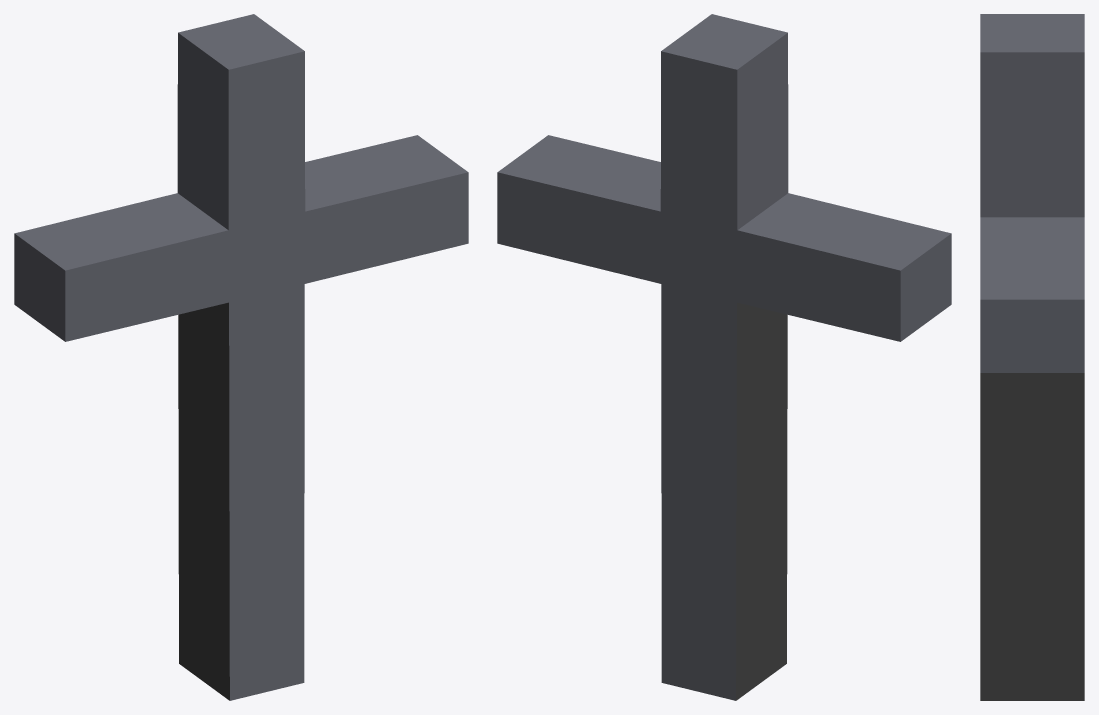
The model's file is Zeolite_acc.FBX.
3 views of the same model, side by side, from view 1: azimuth 30°, elevation 25°; view 2: azimuth 150°, elevation 25°; view 3: azimuth 270°, elevation 25° (orthographic). The views are drawn at different scales.
Parts seen in each view (by area): view 1: Zeolite_acc; view 2: Zeolite_acc; view 3: Zeolite_acc.
Part boxes in pixels (x1,y1,x2,y2): Zeolite_acc: (14, 14, 468, 700); Zeolite_acc: (497, 14, 951, 700); Zeolite_acc: (980, 14, 1084, 700).
Size of the model in its own units: 63.25 by 94.66 by 13.82.
